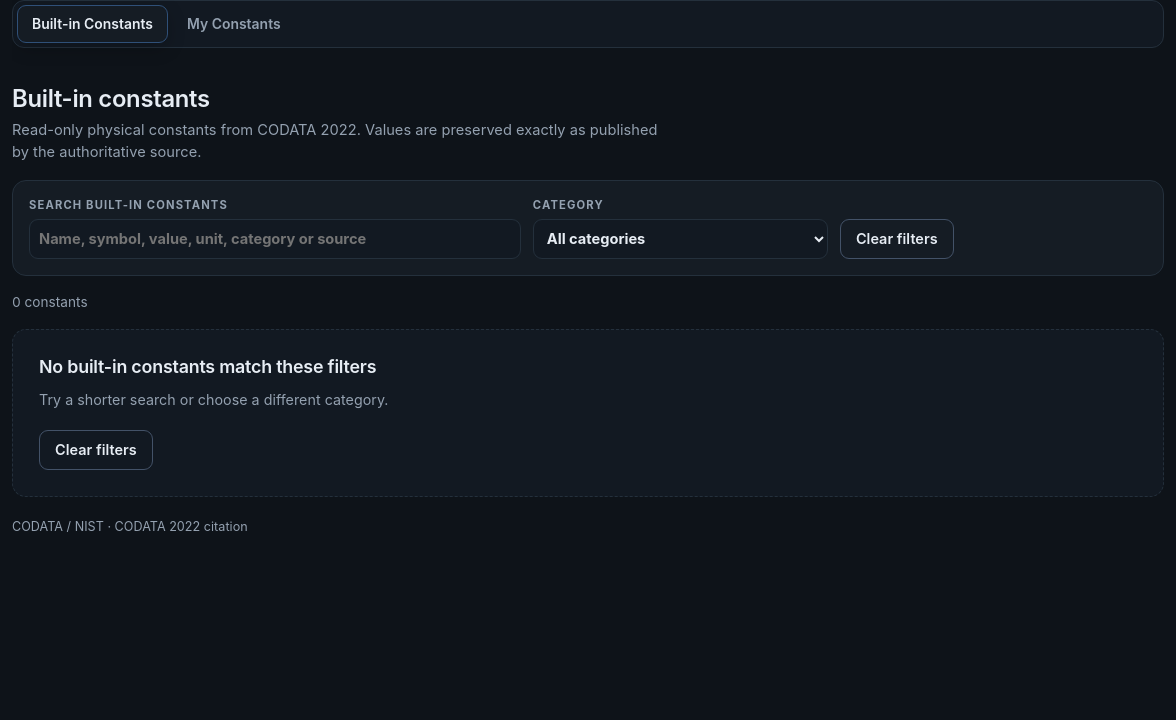
ConstantsLibrary › shows an empty state with an add action
The width and height of the screenshot is (1176, 720).
Click the tab "My Constants".
click(234, 24)  # box [172,5,296,43]
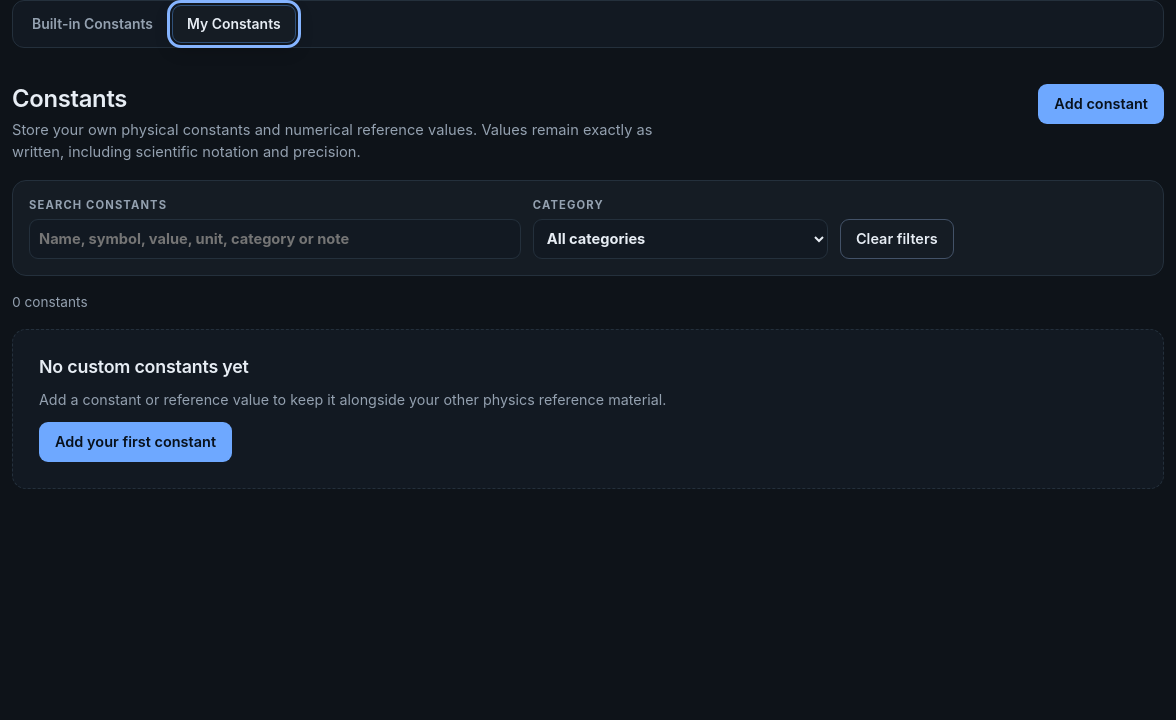
Now the heading "No custom constants yet" is shown, box [39,356,249,378]
Now the button "Add your first constant" is shown, box [39,422,232,462]
